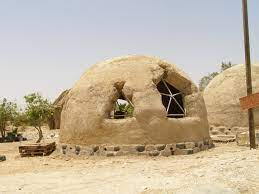Mud House: (66, 52, 207, 153)
